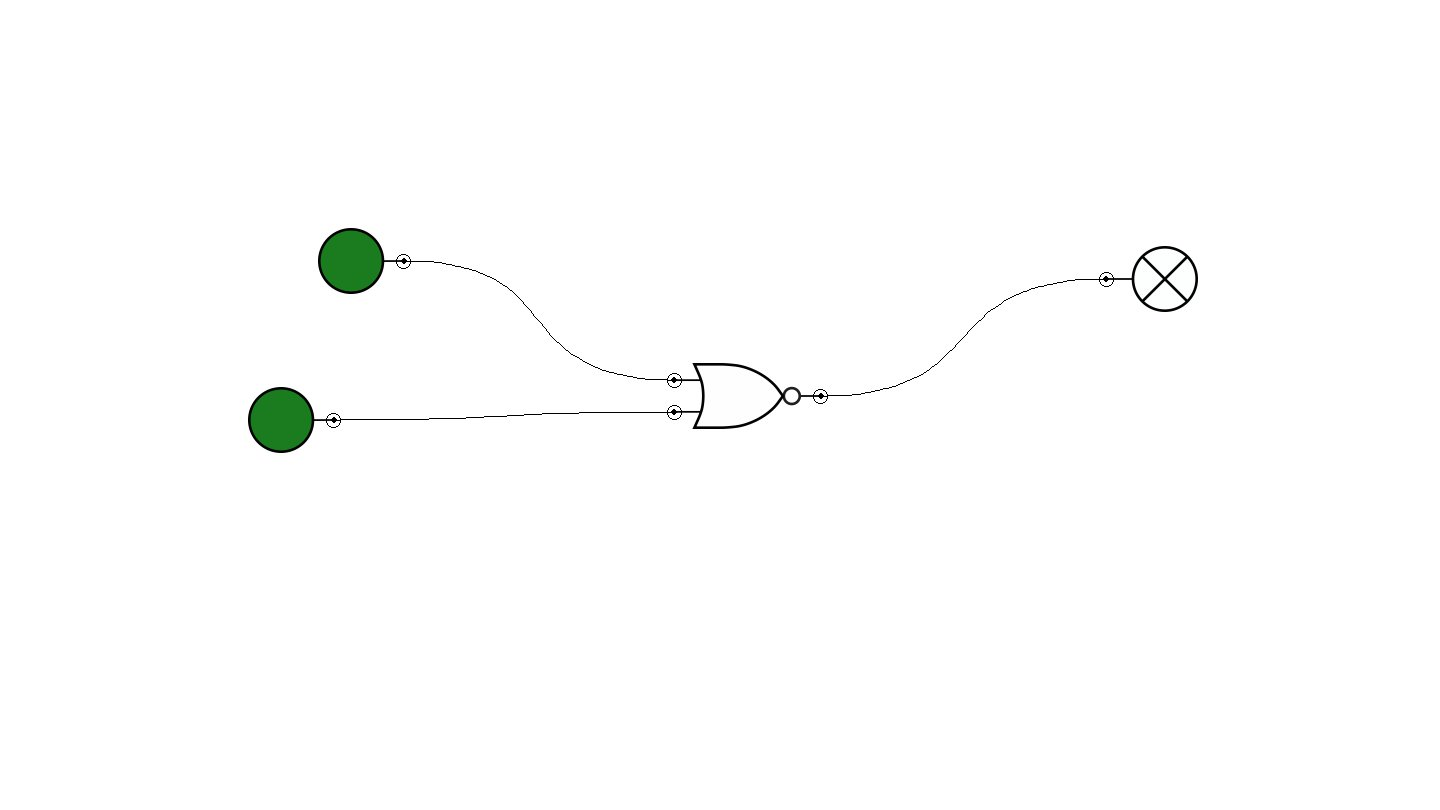bulb: (1099, 246, 1198, 312)
nor: (667, 363, 828, 429)
switch_True: (318, 228, 411, 294), (248, 387, 341, 453)
